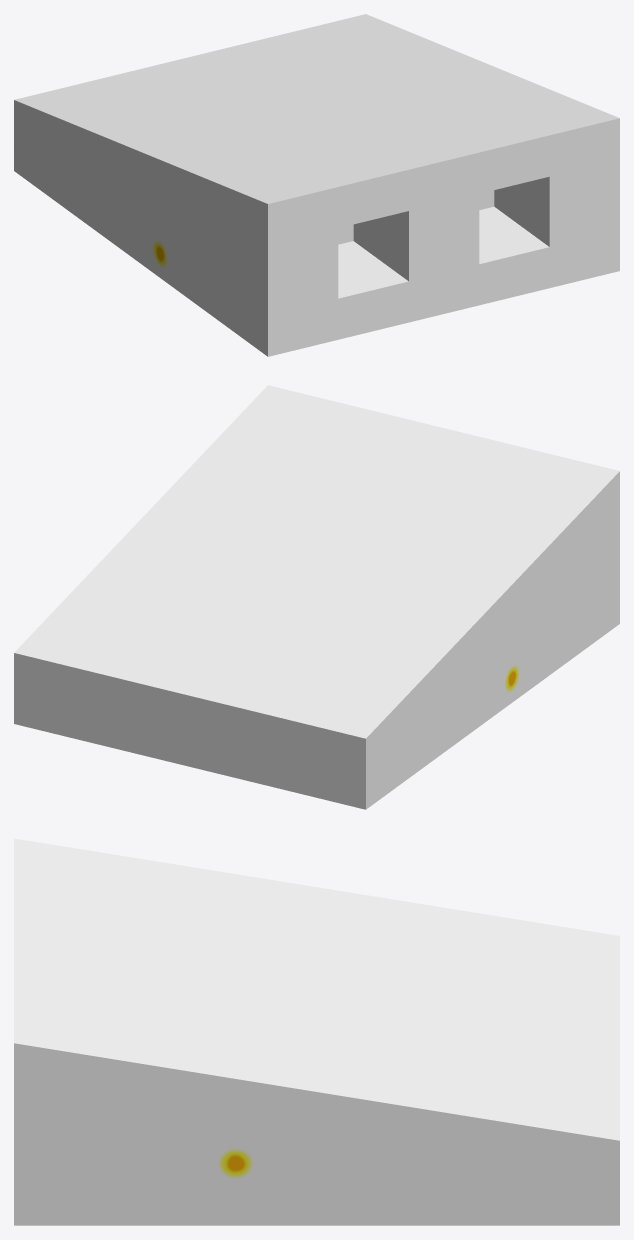
File: header.fbx
The picture shows the model from 3 angles, top to bottom: view 1: azimuth 30°, elevation 25°; view 2: azimuth 150°, elevation 25°; view 3: azimuth 270°, elevation 25°; orthographic projection. The views are drawn at different scales.
Parts seen in each view (by area): view 1: Cube; view 2: Cube; view 3: Cube.
Part boxes in pixels (left/top/right/bottom): Cube: left=14, top=14, right=619, bottom=356; Cube: left=14, top=385, right=619, bottom=809; Cube: left=14, top=838, right=619, bottom=1225.
Bounding box in the file's own units: 200 × 82.99 × 250.
